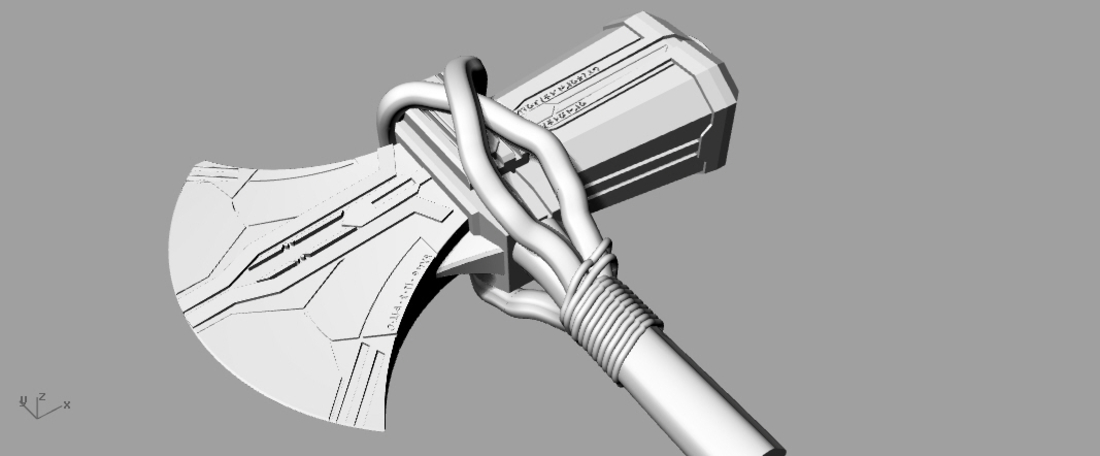THOR Hammer: (162, 10, 810, 439)
